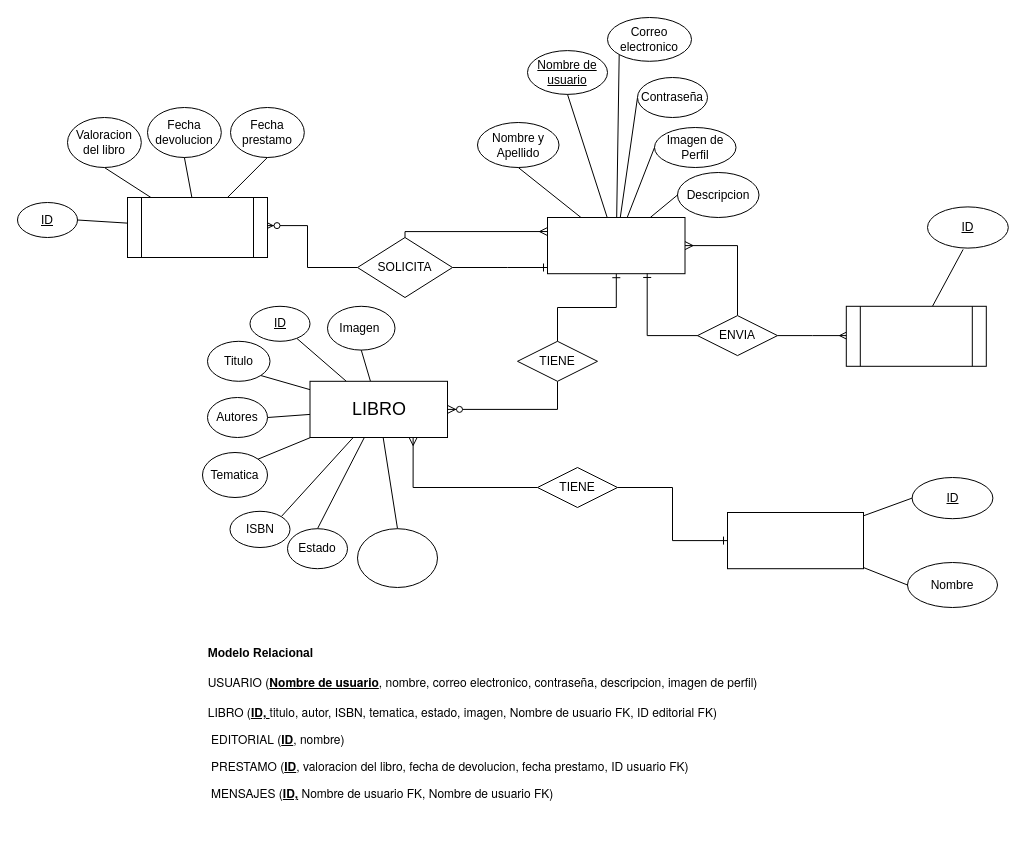
The diagram is 1026 pixels wide and 859 high, and some of its shapes have lost their labels. Here are the shapes that lost their labels. From the top down, the centre of each, then its label:
At pixel 197 227: "PRESTAMO".
At pixel 615 245: "USUARIO".
At pixel 915 335: "MENSAJES".
At pixel 397 558: "numero veces prestado".
At pixel 795 540: "EDITORIAL".
